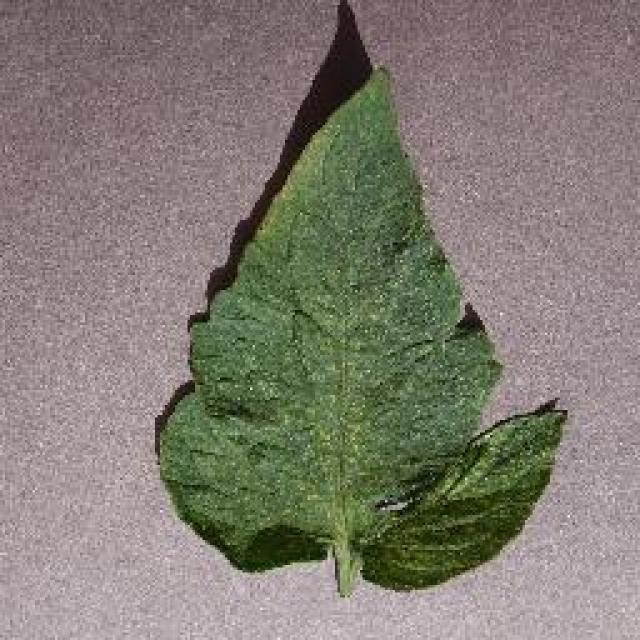Tomato spider mites leaf: (152, 64, 566, 594)
